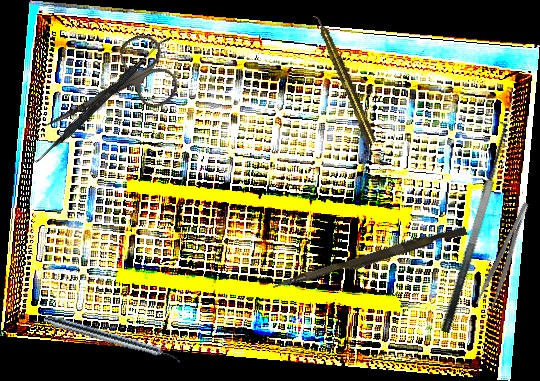Dressing Forceps: (474, 201, 540, 311)
Handpiece: (311, 12, 378, 146), (41, 313, 184, 366)
Iris Scissors: (27, 28, 185, 158)
Pusher: (271, 221, 468, 297)
Spatula Surgical: (422, 118, 519, 334), (34, 30, 172, 168)
